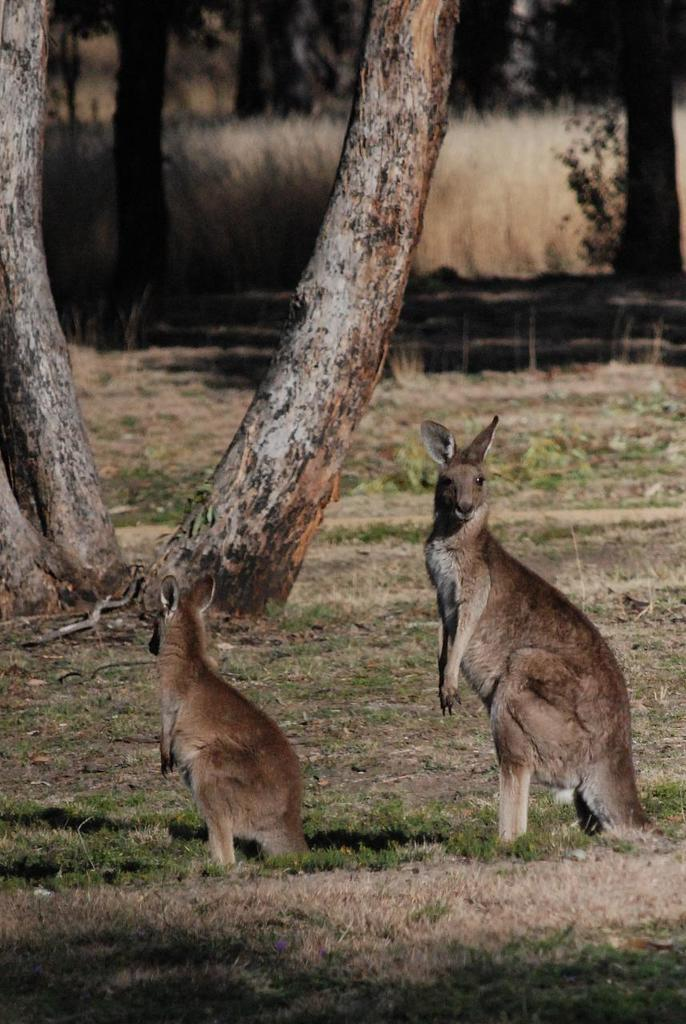kangaroo: (418, 417, 686, 851), (142, 580, 328, 878)
